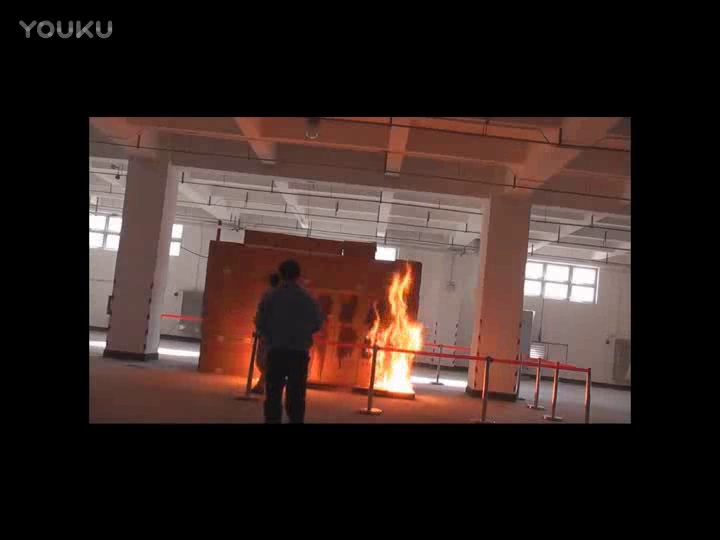fire: (371, 266, 423, 393)
